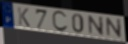0: (71, 13, 85, 35)
7: (34, 8, 50, 30)
C: (51, 10, 70, 33)
K: (16, 6, 31, 29)
N: (105, 17, 123, 40), (87, 15, 105, 37)
